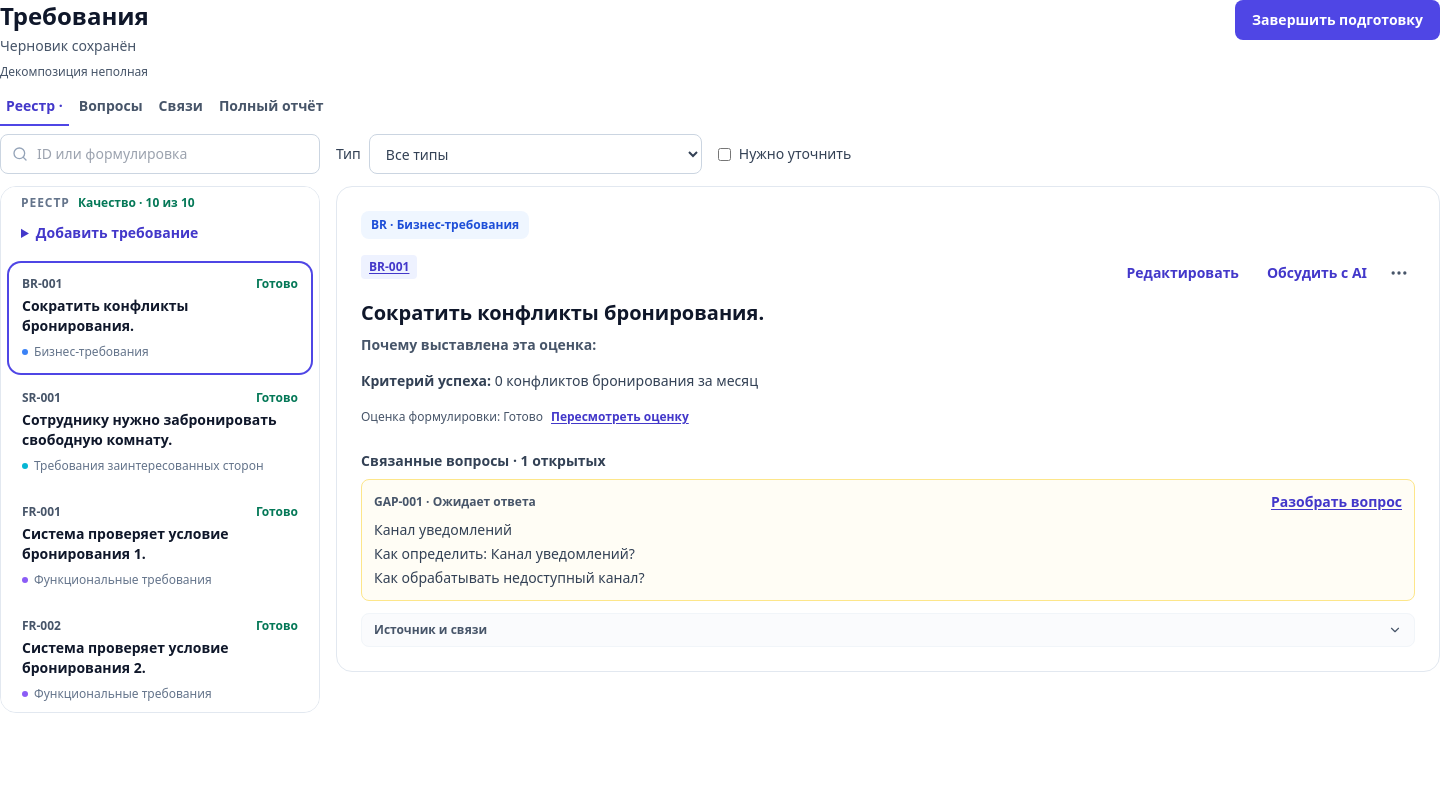
the AI chat view leaves manual closure controls out of the way while awaiting an answer
Click the button "Разобрать вопрос" at (1336, 502), box [1271,492,1402,512]
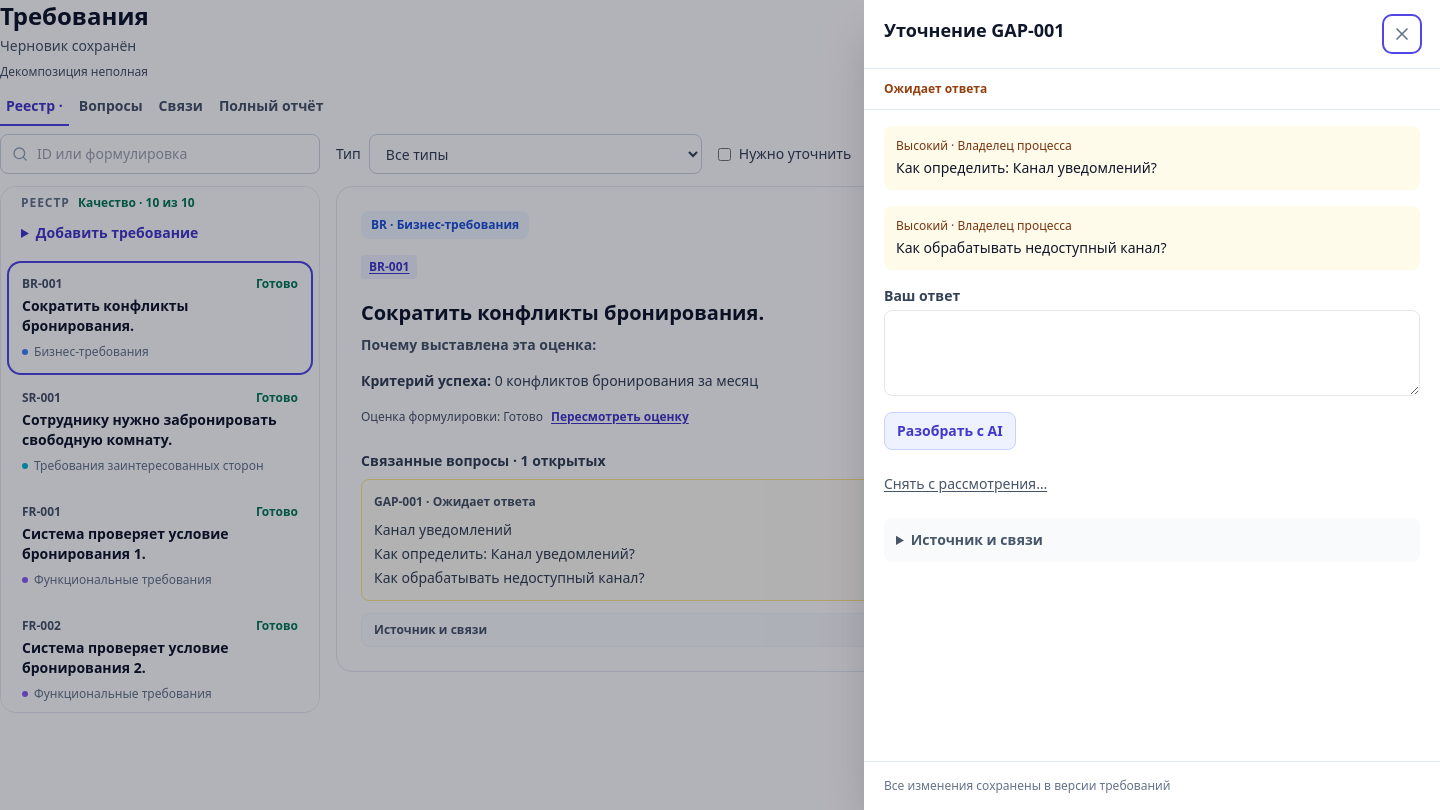
Click the button "Разобрать с AI" at (950, 431), box [884,412,1016,450]
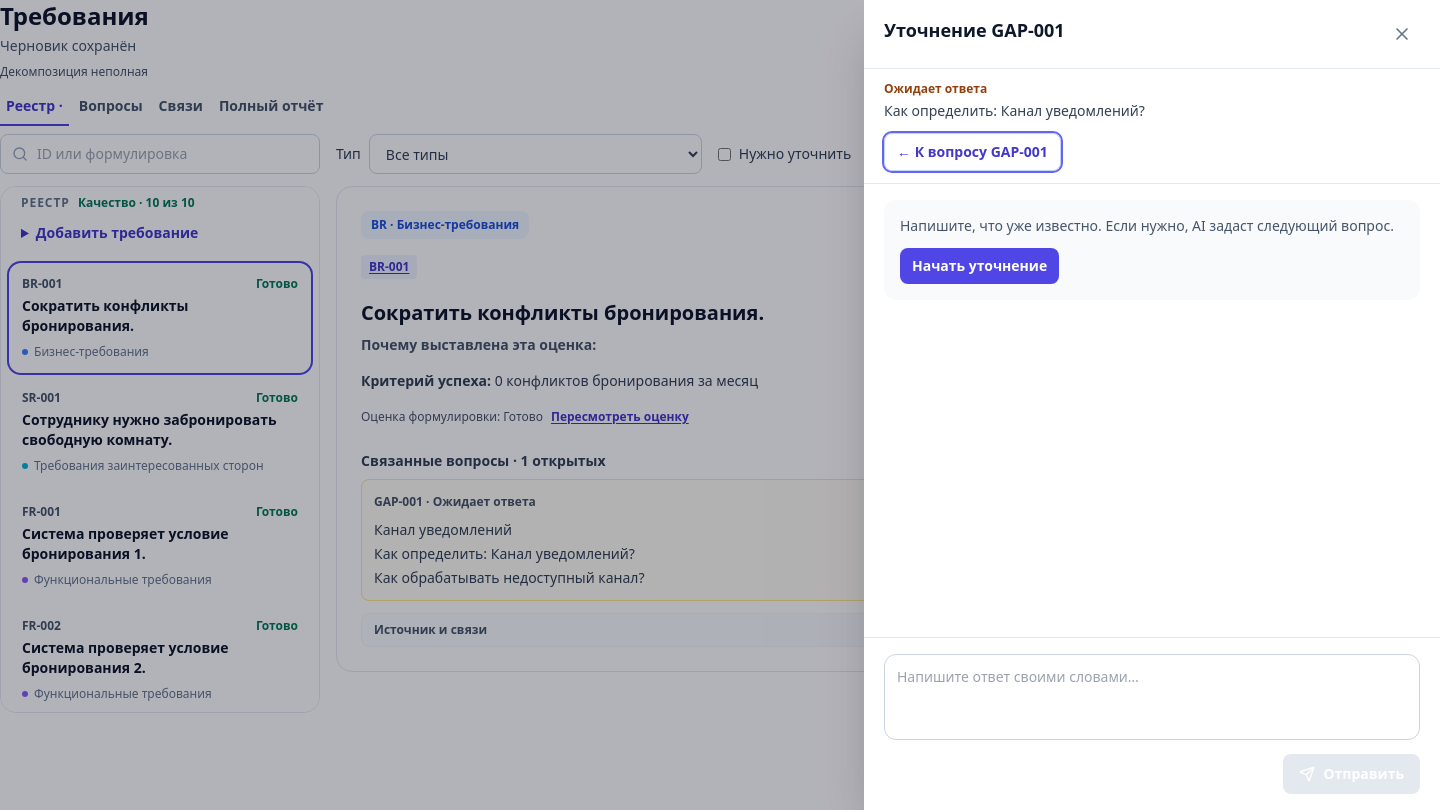
Expected: the text "Ожидает ответа" is shown, [884,80,987,97]
Expected: the button "Снять с рассмотрения…" is gone
